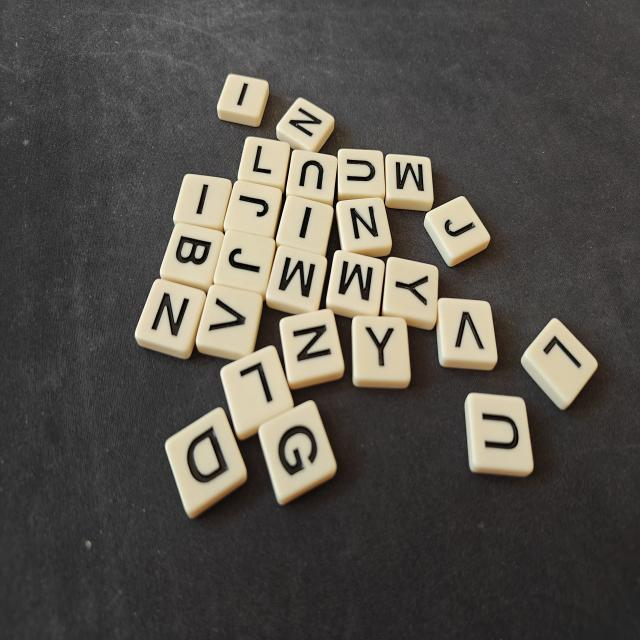b: (160, 223, 224, 293)
d: (165, 408, 247, 518)
g: (258, 400, 337, 504)
i: (173, 174, 232, 231), (276, 196, 333, 255), (217, 74, 269, 127)
j: (424, 196, 490, 266), (213, 230, 276, 299), (224, 181, 282, 239)
l: (521, 318, 598, 410), (220, 345, 294, 439), (238, 137, 290, 191)
m: (266, 245, 327, 314), (326, 250, 385, 318), (385, 154, 433, 211)
n: (135, 279, 205, 359), (279, 309, 344, 389), (336, 198, 392, 256), (276, 98, 335, 152)
u: (465, 393, 533, 476), (286, 150, 337, 204), (337, 149, 385, 200)
v: (196, 284, 262, 360), (436, 298, 497, 370)
y: (351, 315, 411, 388), (382, 257, 438, 330)
